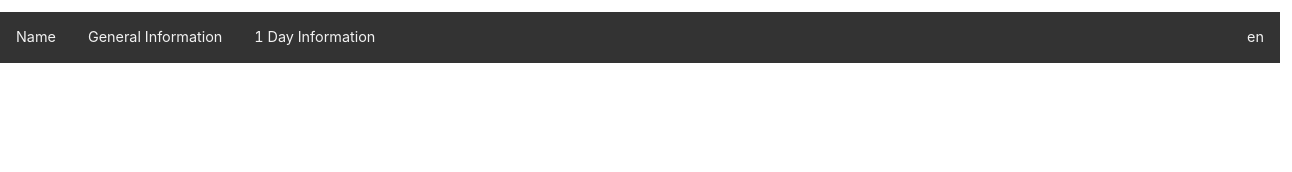
it: testSuite › Language test
Click the button "en": coordinates (1256, 37) 1231,12 -> 1280,63
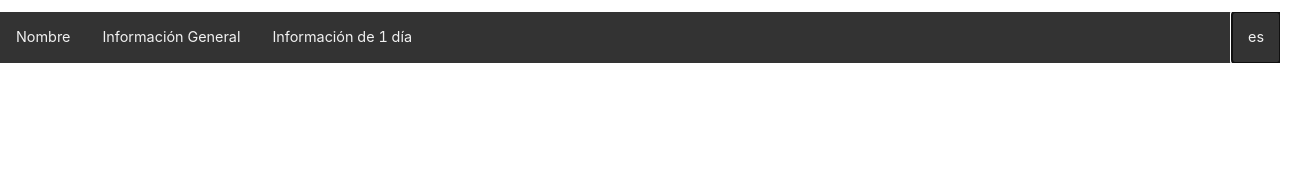
Expected: the link "Nombre" is shown, 16,28 -> 70,45
